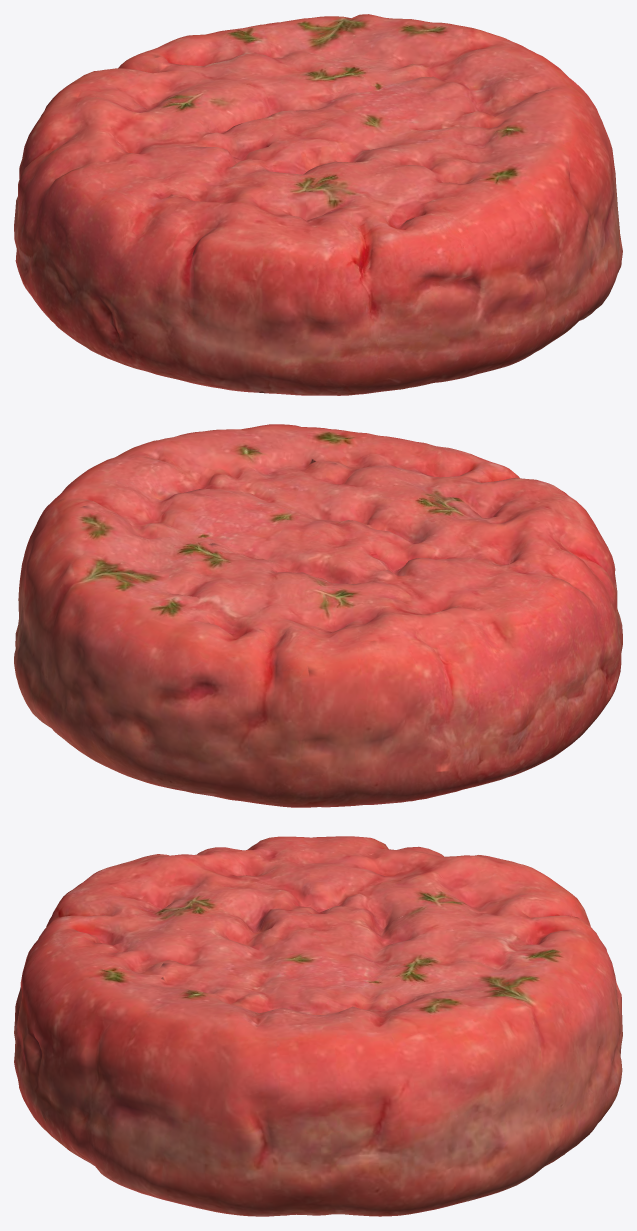
Rendered from burger-raw.glb.
3 views of the same model, one above another, from view 1: azimuth 30°, elevation 25°; view 2: azimuth 150°, elevation 25°; view 3: azimuth 270°, elevation 25° (orthographic). The views are drawn at different scales.
Visible parts, largest first — view 1: Object_4; view 2: Object_4; view 3: Object_4.
Part boxes in pixels (bbox=[...]): Object_4: bbox=[14, 14, 622, 395]; Object_4: bbox=[14, 424, 622, 807]; Object_4: bbox=[14, 836, 622, 1216].
Size of the model in its own units: 0.1515 by 0.0532 by 0.151.
Materials: 1 (1 with a texture image).
